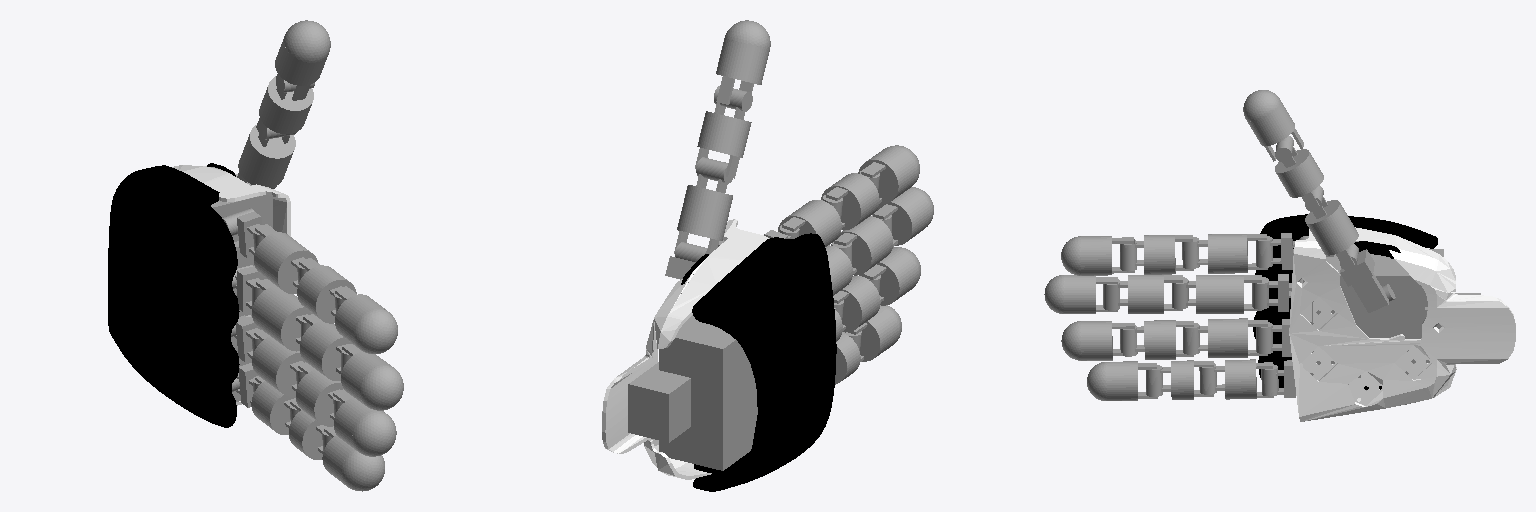
The robot description file, URDF, robot "ICub":
<?xml version="1.0"?>
<robot name="ICub">


   <link name="base_link">
      <origin rpy="0 0 0" xyz="0 0 0"/>
    <inertial>
      <origin xyz="0 0 0" rpy="0 0 0"/>
      <mass value="0.111"/>
      <inertia
        ixx="0.112" ixy="0.0" ixz="0.0"
        iyy="0.112" iyz="0.0"
        izz="0.112"/>
    </inertial>
   </link>


<!-- RIGHT HAND -->

   <link name="right_palm">
      <visual>
      <origin rpy="0 0 3.1416" xyz="-0.0625 0 0.016"/>
         <geometry>
	    <mesh filename="package://icub_with_hands/meshes/right_palm.dae"/>
         </geometry>
      </visual>
    <inertial>
      <origin xyz="0 0 0" rpy="0 0 0"/>
      <mass value="0.111"/>
      <inertia
        ixx="0.112" ixy="0.0" ixz="0.0"
        iyy="0.112" iyz="0.0"
        izz="0.112"/>
    </inertial>
   </link>

   <link name="thumbbase">
    <inertial>
      <origin xyz="0 0 0" rpy="0 0 0"/>
      <mass value="0.111"/>
      <inertia
        ixx="0.112" ixy="0.0" ixz="0.0"
        iyy="0.112" iyz="0.0"
        izz="0.112"/>
    </inertial>
   </link>

   <link name="tl0">
      <visual>
      <origin rpy="-1.5708 0 0" xyz="0 0 0"/>
         <geometry>
	    <mesh filename="package://icub_with_hands/meshes/tl0.dae"/>
         </geometry>
      </visual>
    <inertial>
      <origin xyz="0 0 0" rpy="0 0 0"/>
      <mass value="0.111"/>
      <inertia
        ixx="0.112" ixy="0.0" ixz="0.0"
        iyy="0.112" iyz="0.0"
        izz="0.112"/>
    </inertial>
   </link>

   <link name="tl1">
      <visual>
      <origin rpy="0 0 0" xyz="0.021 0 0.0056"/>
         <geometry>
	    <mesh filename="package://icub_with_hands/meshes/tl1.dae"/>
         </geometry>
      </visual>
    <inertial>
      <origin xyz="0 0 0" rpy="0 0 0"/>
      <mass value="0.111"/>
      <inertia
        ixx="0.112" ixy="0.0" ixz="0.0"
        iyy="0.112" iyz="0.0"
        izz="0.112"/>
    </inertial>
   </link>

   <link name="tl2">
      <visual>
      <origin rpy="0 0 0" xyz="0.026 0 0"/>
         <geometry>
	    <mesh filename="package://icub_with_hands/meshes/tl2.dae"/>
         </geometry>
      </visual>
    <inertial>
      <origin xyz="0 0 0" rpy="0 0 0"/>
      <mass value="0.111"/>
      <inertia
        ixx="0.112" ixy="0.0" ixz="0.0"
        iyy="0.112" iyz="0.0"
        izz="0.112"/>
    </inertial>
   </link>

   <link name="tl3">
      <visual>
      <origin rpy="0 0 0" xyz="0.022 0 0"/>
         <geometry>
	    <mesh filename="package://icub_with_hands/meshes/tl3.dae"/>
         </geometry>
      </visual>
    <inertial>
      <origin xyz="0 0 0" rpy="0 0 0"/>
      <mass value="0.111"/>
      <inertia
        ixx="0.112" ixy="0.0" ixz="0.0"
        iyy="0.112" iyz="0.0"
        izz="0.112"/>
    </inertial>
   </link>

   <link name="tl4">
      <visual>
      <origin rpy="0 0 0" xyz="0.0168 0 0"/>
         <geometry>
	    <mesh filename="package://icub_with_hands/meshes/tl4.dae"/>
         </geometry>
      </visual>
    <inertial>
      <origin xyz="0 0 0" rpy="0 0 0"/>
      <mass value="0.111"/>
      <inertia
        ixx="0.112" ixy="0.0" ixz="0.0"
        iyy="0.112" iyz="0.0"
        izz="0.112"/>
    </inertial>
   </link>

   <link name="indexbase">
      <visual>
      <origin rpy="0.0959 0 0.0175" xyz="0.0018 -0.027 -0.00375"/>
         <geometry>
	    <mesh filename="package://icub_with_hands/meshes/indexbase.dae"/>
         </geometry>
      </visual>
    <inertial>
      <origin xyz="0 0 0" rpy="0 0 0"/>
      <mass value="0.111"/>
      <inertia
        ixx="0.112" ixy="0.0" ixz="0.0"
        iyy="0.112" iyz="0.0"
        izz="0.112"/>
    </inertial>
   </link>

   <link name="il0">
      <visual>
      <origin rpy="1.5708 0 0" xyz="0.0148 0 0"/>
         <geometry>
	    <mesh filename="package://icub_with_hands/meshes/il0.dae"/>
         </geometry>
      </visual>
    <inertial>
      <origin xyz="0 0 0" rpy="0 0 0"/>
      <mass value="0.111"/>
      <inertia
        ixx="0.112" ixy="0.0" ixz="0.0"
        iyy="0.112" iyz="0.0"
        izz="0.112"/>
    </inertial>
   </link>

   <link name="il1">
      <visual>
      <origin rpy="0 0 0" xyz="0.0259 0 0"/>
         <geometry>
	    <mesh filename="package://icub_with_hands/meshes/il1.dae"/>
         </geometry>
      </visual>
    <inertial>
      <origin xyz="0 0 0" rpy="0 0 0"/>
      <mass value="0.111"/>
      <inertia
        ixx="0.112" ixy="0.0" ixz="0.0"
        iyy="0.112" iyz="0.0"
        izz="0.112"/>
    </inertial>
   </link>

   <link name="il2">
      <visual>
      <origin rpy="0 0 0" xyz="0.022 0 0"/>
         <geometry>
	    <mesh filename="package://icub_with_hands/meshes/il2.dae"/>
         </geometry>
      </visual>
    <inertial>
      <origin xyz="0 0 0" rpy="0 0 0"/>
      <mass value="0.111"/>
      <inertia
        ixx="0.112" ixy="0.0" ixz="0.0"
        iyy="0.112" iyz="0.0"
        izz="0.112"/>
    </inertial>
   </link>

   <link name="il3">
      <visual>
      <origin rpy="-1.5708 0 0" xyz="0.0168 0 0"/>
         <geometry>
	    <mesh filename="package://icub_with_hands/meshes/il3.dae"/>
         </geometry>
      </visual>
    <inertial>
      <origin xyz="0 0 0" rpy="0 0 0"/>
      <mass value="0.111"/>
      <inertia
        ixx="0.112" ixy="0.0" ixz="0.0"
        iyy="0.112" iyz="0.0"
        izz="0.112"/>
    </inertial>
   </link>

   <link name="middlebase">
      <visual>
      <origin rpy="0 0 0" xyz="0.0028 -0.01 -0.005"/>
         <geometry>
	    <mesh filename="package://icub_with_hands/meshes/middlebase.dae"/>
         </geometry>
      </visual>
    <inertial>
      <origin xyz="0 0 0" rpy="0 0 0"/>
      <mass value="0.111"/>
      <inertia
        ixx="0.112" ixy="0.0" ixz="0.0"
        iyy="0.112" iyz="0.0"
        izz="0.112"/>
    </inertial>
   </link>

   <link name="ml0">
      <visual>
      <origin rpy="1.5708 0 0" xyz="0.015 0 0"/>
         <geometry>
	    <mesh filename="package://icub_with_hands/meshes/ml0.dae"/>
         </geometry>
      </visual>
    <inertial>
      <origin xyz="0 0 0" rpy="0 0 0"/>
      <mass value="0.111"/>
      <inertia
        ixx="0.112" ixy="0.0" ixz="0.0"
        iyy="0.112" iyz="0.0"
        izz="0.112"/>
    </inertial>
   </link>

   <link name="ml1">
      <visual>
      <origin rpy="0 0 0" xyz="0.0285 0 0"/>
         <geometry>
	    <mesh filename="package://icub_with_hands/meshes/ml1.dae"/>
         </geometry>
      </visual>
    <inertial>
      <origin xyz="0 0 0" rpy="0 0 0"/>
      <mass value="0.111"/>
      <inertia
        ixx="0.112" ixy="0.0" ixz="0.0"
        iyy="0.112" iyz="0.0"
        izz="0.112"/>
    </inertial>
   </link>

   <link name="ml2">
      <visual>
      <origin rpy="0 0 0" xyz="0.0240 0 0"/>
         <geometry>
	    <mesh filename="package://icub_with_hands/meshes/ml2.dae"/>
         </geometry>
      </visual>
    <inertial>
      <origin xyz="0 0 0" rpy="0 0 0"/>
      <mass value="0.111"/>
      <inertia
        ixx="0.112" ixy="0.0" ixz="0.0"
        iyy="0.112" iyz="0.0"
        izz="0.112"/>
    </inertial>
   </link>

   <link name="ml3">
      <visual>
      <origin rpy="-1.5708 0 0" xyz="0.0168 0 0"/>
         <geometry>
	    <mesh filename="package://icub_with_hands/meshes/ml3.dae"/>
         </geometry>
      </visual>
    <inertial>
      <origin xyz="0 0 0" rpy="0 0 0"/>
      <mass value="0.111"/>
      <inertia
        ixx="0.112" ixy="0.0" ixz="0.0"
        iyy="0.112" iyz="0.0"
        izz="0.112"/>
    </inertial>
   </link>

   <link name="ringbase">
      <visual>
      <origin rpy="0.0873 0 0.0087" xyz="0.00165 0.0059 -0.00425"/>
         <geometry>
	    <mesh filename="package://icub_with_hands/meshes/ringbase.dae"/>
         </geometry>
      </visual>
    <inertial>
      <origin xyz="0 0 0" rpy="0 0 0"/>
      <mass value="0.111"/>
      <inertia
        ixx="0.112" ixy="0.0" ixz="0.0"
        iyy="0.112" iyz="0.0"
        izz="0.112"/>
    </inertial>
   </link>

   <link name="ril0">
      <visual>
      <origin rpy="1.5708 0 0" xyz="0.0148 0 0"/>
         <geometry>
	    <mesh filename="package://icub_with_hands/meshes/ril0.dae"/>
         </geometry>
      </visual>
    <inertial>
      <origin xyz="0 0 0" rpy="0 0 0"/>
      <mass value="0.111"/>
      <inertia
        ixx="0.112" ixy="0.0" ixz="0.0"
        iyy="0.112" iyz="0.0"
        izz="0.112"/>
    </inertial>
   </link>

   <link name="ril1">
      <visual>
      <origin rpy="0 0 0" xyz="0.0259 0 0"/>
         <geometry>
	    <mesh filename="package://icub_with_hands/meshes/ril1.dae"/>
         </geometry>
      </visual>
    <inertial>
      <origin xyz="0 0 0" rpy="0 0 0"/>
      <mass value="0.111"/>
      <inertia
        ixx="0.112" ixy="0.0" ixz="0.0"
        iyy="0.112" iyz="0.0"
        izz="0.112"/>
    </inertial>
   </link>

   <link name="ril2">
      <visual>
      <origin rpy="0 0 0" xyz="0.022 0 0"/>
         <geometry>
	    <mesh filename="package://icub_with_hands/meshes/ril2.dae"/>
         </geometry>
      </visual>
    <inertial>
      <origin xyz="0 0 0" rpy="0 0 0"/>
      <mass value="0.111"/>
      <inertia
        ixx="0.112" ixy="0.0" ixz="0.0"
        iyy="0.112" iyz="0.0"
        izz="0.112"/>
    </inertial>
   </link>

   <link name="ril3">
      <visual>
      <origin rpy="-1.5708 0 0" xyz="0.0168 0 0"/>
         <geometry>
	    <mesh filename="package://icub_with_hands/meshes/ril3.dae"/>
         </geometry>
      </visual>
    <inertial>
      <origin xyz="0 0 0" rpy="0 0 0"/>
      <mass value="0.111"/>
      <inertia
        ixx="0.112" ixy="0.0" ixz="0.0"
        iyy="0.112" iyz="0.0"
        izz="0.112"/>
    </inertial>
   </link>

   <link name="littlebase">
      <visual>
      <origin rpy="0.0873 0 0.0175" xyz="-0.00025 0.02475 -0.0025"/>
         <geometry>
	    <mesh filename="package://icub_with_hands/meshes/littlebase.dae"/>
         </geometry>
      </visual>
    <inertial>
      <origin xyz="0 0 0" rpy="0 0 0"/>
      <mass value="0.111"/>
      <inertia
        ixx="0.112" ixy="0.0" ixz="0.0"
        iyy="0.112" iyz="0.0"
        izz="0.112"/>
    </inertial>
   </link>

   <link name="lil0">
      <visual>
      <origin rpy="1.5708 0 0" xyz="0.0148 0 0"/>
         <geometry>
	    <mesh filename="package://icub_with_hands/meshes/lil0.dae"/>
         </geometry>
      </visual>
    <inertial>
      <origin xyz="0 0 0" rpy="0 0 0"/>
      <mass value="0.111"/>
      <inertia
        ixx="0.112" ixy="0.0" ixz="0.0"
        iyy="0.112" iyz="0.0"
        izz="0.112"/>
    </inertial>
   </link>

   <link name="lil1">
      <visual>
      <origin rpy="0 0 0" xyz="0.0218 0 0"/>
         <geometry>
	    <mesh filename="package://icub_with_hands/meshes/lil1.dae"/>
         </geometry>
      </visual>
    <inertial>
      <origin xyz="0 0 0" rpy="0 0 0"/>
      <mass value="0.111"/>
      <inertia
        ixx="0.112" ixy="0.0" ixz="0.0"
        iyy="0.112" iyz="0.0"
        izz="0.112"/>
    </inertial>
   </link>

   <link name="lil2">
      <visual>
      <origin rpy="0 0 0" xyz="0.019 0 0"/>
         <geometry>
	    <mesh filename="package://icub_with_hands/meshes/lil2.dae"/>
         </geometry>
      </visual>
    <inertial>
      <origin xyz="0 0 0" rpy="0 0 0"/>
      <mass value="0.111"/>
      <inertia
        ixx="0.112" ixy="0.0" ixz="0.0"
        iyy="0.112" iyz="0.0"
        izz="0.112"/>
    </inertial>
   </link>

   <link name="lil3">
      <visual>
      <origin rpy="-1.5708 0 0" xyz="0.0168 0 0"/>
         <geometry>
	    <mesh filename="package://icub_with_hands/meshes/lil3.dae"/>
         </geometry>
      </visual>
    <inertial>
      <origin xyz="0 0 0" rpy="0 0 0"/>
      <mass value="0.111"/>
      <inertia
        ixx="0.112" ixy="0.0" ixz="0.0"
        iyy="0.112" iyz="0.0"
        izz="0.112"/>
    </inertial>
   </link>

	
<!-- ########################################################## JOINTS #########################################################
##################################################################################################################
##################################################################################################################
##################################################################################################################
##################################################################################################################
##################################################################################################################
################################################################################################################## -->

<!-- RIGHT HAND -->

   <joint name="right_wrist_yaw" type="fixed">
      <axis xyz="0 0 1"/>
      <limit effort="1000.0" lower="-0.3491" upper="0.6981" velocity="0.5"/>
      <parent link="base_link"/>
      <child link="right_palm"/>
      <origin rpy="1.5708 0 1.5708" xyz="0 0 0"/>
   </joint>

   <joint name="tj1" type="fixed">
      <parent link="right_palm"/>
      <child link="thumbbase"/>
      <origin rpy="0 0 3.1416" xyz="-0.0625 0 0.016"/>
   </joint>

   <joint name="tj2" type="revolute">
      <axis xyz="0 0 1"/>
      <limit effort="1000.0" lower="0" upper="1.5708" velocity="0.5"/>
      <parent link="thumbbase"/>
      <child link="tl0"/>
      <origin rpy="1.4922 0 -1.0733" xyz="-0.0239 -0.01235 0.005"/>
   </joint>

   <joint name="tj3" type="fixed">
      <parent link="tl0"/>
      <child link="tl1"/>
      <origin rpy="-1.5708 0 0" xyz="0 0 0"/>
   </joint>

   <joint name="tj4" type="revolute">
      <axis xyz="0 0 1"/>
      <limit effort="1000.0" lower="0" upper="1.5708" velocity="0.5"/>
      <parent link="tl1"/>
      <child link="tl2"/>
      <origin rpy="0 0 0" xyz="0.021 0 0.0056"/>
   </joint>

   <joint name="tj5" type="revolute">
      <axis xyz="0 0 1"/>
      <limit effort="1000.0" lower="0" upper="1.5708" velocity="0.5"/>
      <parent link="tl2"/>
      <child link="tl3"/>
      <origin rpy="0 0 0" xyz="0.026 0 0"/>
   </joint>

   <joint name="tj6" type="revolute">
      <axis xyz="0 0 1"/>
      <limit effort="1000.0" lower="0" upper="1.5708" velocity="0.5"/>
      <parent link="tl3"/>
      <child link="tl4"/>
      <origin rpy="0 0 0" xyz="0.022 0 0"/>
   </joint>

   <joint name="ij1" type="fixed">
      <parent link="right_palm"/>
      <child link="indexbase"/>
      <origin rpy="0 0 3.1416" xyz="-0.0625 0 0.016"/>
   </joint>

   <joint name="ij2" type="fixed">
      <parent link="indexbase"/>
      <child link="il0"/>
      <origin rpy="0.0959 0 0.0175" xyz="0.0018 -0.027 -0.00375"/>
   </joint>

   <joint name="ij3" type="revolute">
      <axis xyz="0 0 1"/>
      <limit effort="1000.0" lower="0" upper="1.5708" velocity="0.5"/>
      <parent link="il0"/>
      <child link="il1"/>
      <origin rpy="1.5708 0 0" xyz="0.0148 0 0"/>
   </joint>

   <joint name="ij4" type="revolute">
      <axis xyz="0 0 1"/>
      <limit effort="1000.0" lower="0" upper="1.5708" velocity="0.5"/>
      <parent link="il1"/>
      <child link="il2"/>
      <origin rpy="0 0 0" xyz="0.0259 0 0"/>
   </joint>

   <joint name="ij5" type="revolute">
      <axis xyz="0 0 1"/>
      <limit effort="1000.0" lower="0" upper="1.5708" velocity="0.5"/>
      <parent link="il2"/>
      <child link="il3"/>
      <origin rpy="0 0 0" xyz="0.022 0 0"/>
   </joint>

   <joint name="mj1" type="fixed">
      <parent link="right_palm"/>
      <child link="middlebase"/>
      <origin rpy="0 0 3.1416" xyz="-0.0625 0 0.016"/>
   </joint>

   <joint name="mj2" type="fixed">
      <parent link="middlebase"/>
      <child link="ml0"/>
      <origin rpy="0 0 0" xyz="0.0028 -0.01 -0.005"/>
   </joint>

   <joint name="mj3" type="revolute">
      <axis xyz="0 0 1"/>
      <limit effort="1000.0" lower="0" upper="1.5708" velocity="0.5"/>
      <parent link="ml0"/>
      <child link="ml1"/>
      <origin rpy="1.5708 0 0" xyz="0.015 0 0"/>
   </joint>

   <joint name="mj4" type="revolute">
      <axis xyz="0 0 1"/>
      <limit effort="1000.0" lower="0" upper="1.5708" velocity="0.5"/>
      <parent link="ml1"/>
      <child link="ml2"/>
      <origin rpy="0 0 0" xyz="0.0285 0 0"/>
   </joint>

   <joint name="mj5" type="revolute">
      <axis xyz="0 0 1"/>
      <limit effort="1000.0" lower="0" upper="1.5708" velocity="0.5"/>
      <parent link="ml2"/>
      <child link="ml3"/>
      <origin rpy="0 0 0" xyz="0.0240 0 0"/>
   </joint>

   <joint name="rij1" type="fixed">
      <parent link="right_palm"/>
      <child link="ringbase"/>
      <origin rpy="0 0 3.1416" xyz="-0.0625 0 0.016"/>
   </joint>

   <joint name="rij2" type="fixed">
      <parent link="ringbase"/>
      <child link="ril0"/>
      <origin rpy="0.0873 0 0.0087" xyz="0.00165 0.0059 -0.00425"/>
   </joint>

   <joint name="rij3" type="revolute">
      <axis xyz="0 0 1"/>
      <limit effort="1000.0" lower="0" upper="1.5708" velocity="0.5"/>
      <parent link="ril0"/>
      <child link="ril1"/>
      <origin rpy="1.5708 0 0" xyz="0.0148 0 0"/>
   </joint>

   <joint name="rij4" type="revolute">
      <axis xyz="0 0 1"/>
      <limit effort="1000.0" lower="0" upper="1.5708" velocity="0.5"/>
      <parent link="ril1"/>
      <child link="ril2"/>
      <origin rpy="0 0 0" xyz="0.0259 0 0"/>
   </joint>

   <joint name="rij5" type="revolute">
      <axis xyz="0 0 1"/>
      <limit effort="1000.0" lower="0" upper="1.5708" velocity="0.5"/>
      <parent link="ril2"/>
      <child link="ril3"/>
      <origin rpy="0 0 0" xyz="0.022 0 0"/>
   </joint>

   <joint name="lij1" type="fixed">
      <parent link="right_palm"/>
      <child link="littlebase"/>
      <origin rpy="0 0 3.1416" xyz="-0.0625 0 0.016"/>
   </joint>

   <joint name="lij2" type="fixed">
      <parent link="littlebase"/>
      <child link="lil0"/>
      <origin rpy="0.0873 0 0.0175" xyz="-0.00025 0.02475 -0.0025"/>
   </joint>

   <joint name="lij3" type="revolute">
      <axis xyz="0 0 1"/>
      <limit effort="1000.0" lower="0" upper="1.5708" velocity="0.5"/>
      <parent link="lil0"/>
      <child link="lil1"/>
      <origin rpy="1.5708 0 0" xyz="0.0148 0 0"/>
   </joint>

   <joint name="lij4" type="revolute">
      <axis xyz="0 0 1"/>
      <limit effort="1000.0" lower="0" upper="1.5708" velocity="0.5"/>
      <parent link="lil1"/>
      <child link="lil2"/>
      <origin rpy="0 0 0" xyz="0.0218 0 0"/>
   </joint>

   <joint name="lij5" type="revolute">
      <axis xyz="0 0 1"/>
      <limit effort="1000.0" lower="0" upper="1.5708" velocity="0.5"/>
      <parent link="lil2"/>
      <child link="lil3"/>
      <origin rpy="0 0 0" xyz="0.019 0 0"/>
   </joint>

</robot>

--- What the picture shows (computed from the rendered views, not written in the file) ---
3 views of the same robot in one strip: view 1: azimuth 30°, elevation 25°; view 2: azimuth 150°, elevation 25°; view 3: azimuth 270°, elevation 25° (orthographic).
Robot: ICub — 28 links, 27 joints (16 revolute, 11 fixed); root link base_link; default pose: all joints at 0.
Links seen in each view (by area): view 1: right_palm, tl4, il3, ml3, ril3, ml1, tl2, il1, lil3, tl3, il2, ml2 (+8 smaller); view 2: right_palm, tl2, tl4, tl3, il3, ml2, ml3, il2, ril3, il1, ril2, lil3 (+3 smaller); view 3: right_palm, ml1, il1, ril1, tl2, ml2, tl4, tl3, il3, ril3, lil3, ml3 (+9 smaller).
Boxes of the visible links, x1,y1,x2,y2 form: right_palm: (108, 163, 290, 427); tl4: (275, 20, 330, 100); il3: (335, 286, 397, 353); ml3: (341, 344, 403, 410); ril3: (333, 389, 396, 456); ml1: (252, 279, 312, 351); tl2: (237, 125, 296, 187); il1: (254, 224, 317, 293); lil3: (322, 426, 384, 491); tl3: (256, 74, 314, 137); il2: (297, 258, 356, 323); ml2: (300, 314, 351, 380); right_palm: (602, 219, 836, 491); tl2: (674, 157, 732, 254); tl4: (716, 20, 770, 104); tl3: (695, 86, 752, 178); il3: (858, 145, 919, 203); ml2: (831, 215, 892, 275); ml3: (872, 187, 933, 246); il2: (821, 171, 879, 229); ril3: (859, 247, 920, 305); il1: (778, 195, 842, 246); ril2: (833, 275, 880, 332); lil3: (848, 305, 901, 361); right_palm: (1253, 214, 1515, 421); ml1: (1172, 275, 1261, 313); il1: (1182, 234, 1267, 273); ril1: (1183, 318, 1267, 357); tl2: (1305, 186, 1358, 268); ml2: (1103, 275, 1182, 313); tl4: (1243, 90, 1303, 161); tl3: (1275, 136, 1323, 210); il3: (1061, 236, 1134, 275); ril3: (1061, 321, 1134, 360); lil3: (1087, 361, 1157, 400); ml3: (1044, 275, 1117, 313).
Bounding box of the posed robot: 0.0482 × 0.1661 × 0.1297 m (x, y, z).
Meshes: 26 distinct files referenced, 26 mesh visuals loaded (26 Collada DAE).
